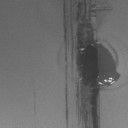slag inclusion: (62, 0, 120, 128)
